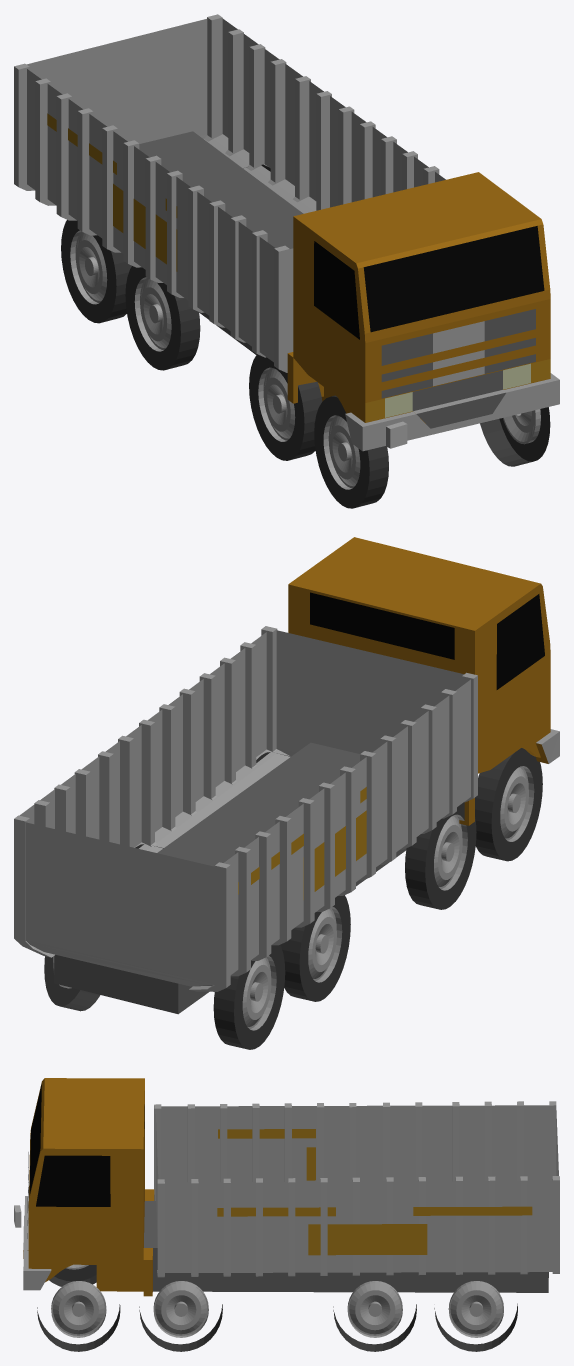
File: daf-cf-rigid.dae
3 views of the same model, one above another, from view 1: azimuth 30°, elevation 25°; view 2: azimuth 150°, elevation 25°; view 3: azimuth 270°, elevation 25° (orthographic). The views are drawn at different scales.
Parts seen in each view (by area): view 1: Cube_014, Cube_614, Circle, Circle_004, Circle_003, Circle_002, Plane_037; view 2: Cube_014, Cube_614, Circle_002, Circle, Circle_003, Circle_004, Plane_004, Plane_037; view 3: Cube_014, Cube_614, Plane_036, Circle, Circle_002, Circle_003, Circle_004, Plane_037.
Boxes of the visible parts, x1,y1,x2,y2 form: Cube_014: (14,14,445,372); Cube_614: (139,131,559,451); Circle: (314,395,550,508); Circle_004: (125,266,200,370); Circle_003: (249,354,322,460); Circle_002: (61,164,270,323); Plane_037: (47,113,177,271); Cube_014: (14,626,477,991); Cube_614: (54,537,559,1014); Circle_002: (44,945,285,1049); Circle: (475,748,542,861); Circle_003: (256,752,476,909); Circle_004: (135,844,350,1001); Plane_004: (310,592,454,659); Plane_037: (238,787,366,899); Cube_014: (154,1101,559,1277); Cube_614: (23,1078,548,1296); Plane_036: (217,1206,532,1255); Circle: (37,1264,120,1351); Circle_002: (434,1281,517,1351); Circle_003: (139,1281,222,1351); Circle_004: (333,1281,416,1351); Plane_037: (218,1129,315,1180).
Size of the model in its own units: 1.78 by 4.99 by 2.04.
